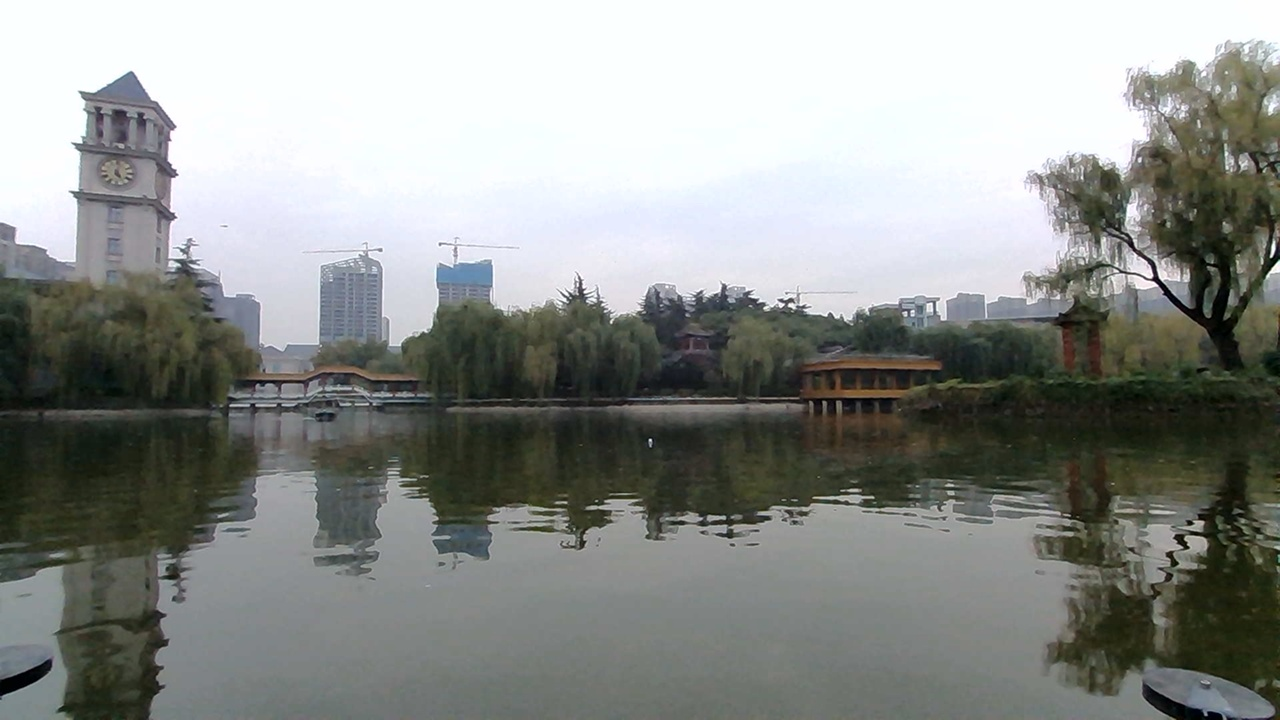bottle: (627, 422, 671, 455)
